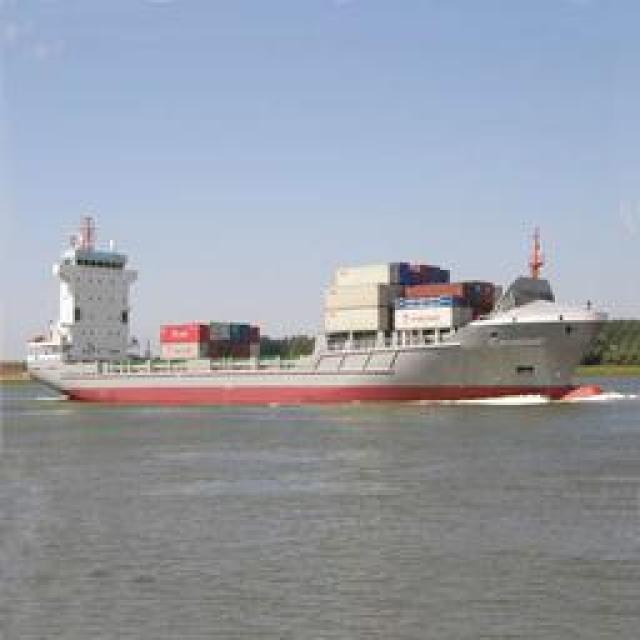CIV_Ship: (26, 222, 622, 402)
